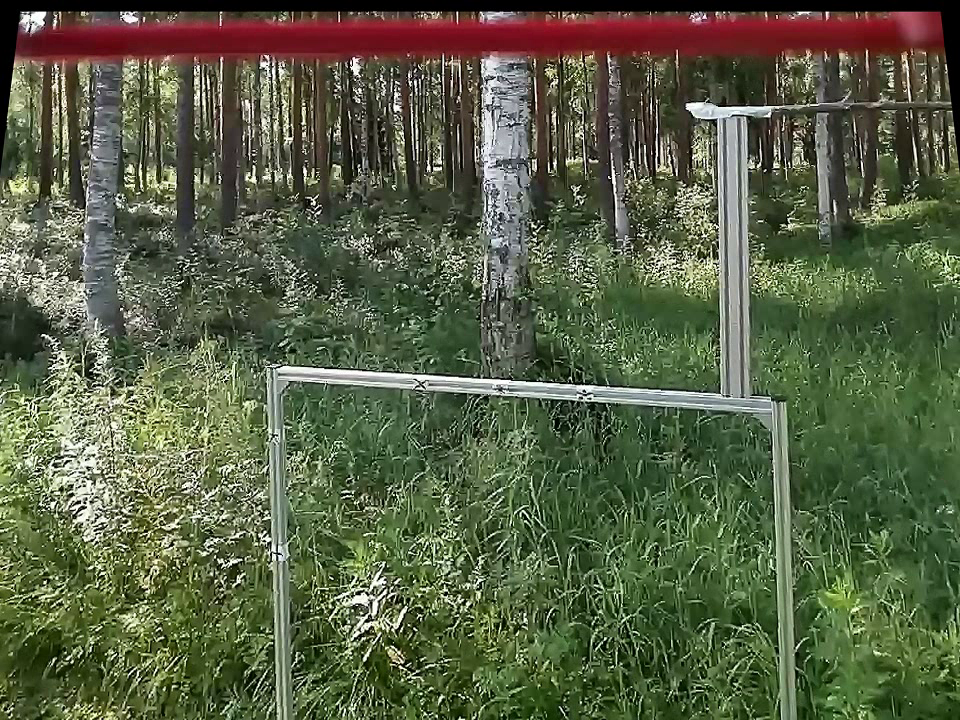aluminum_frame: (246, 358, 798, 419), (261, 359, 303, 718), (763, 389, 807, 714), (712, 117, 758, 397)
branch: (775, 87, 956, 116)
